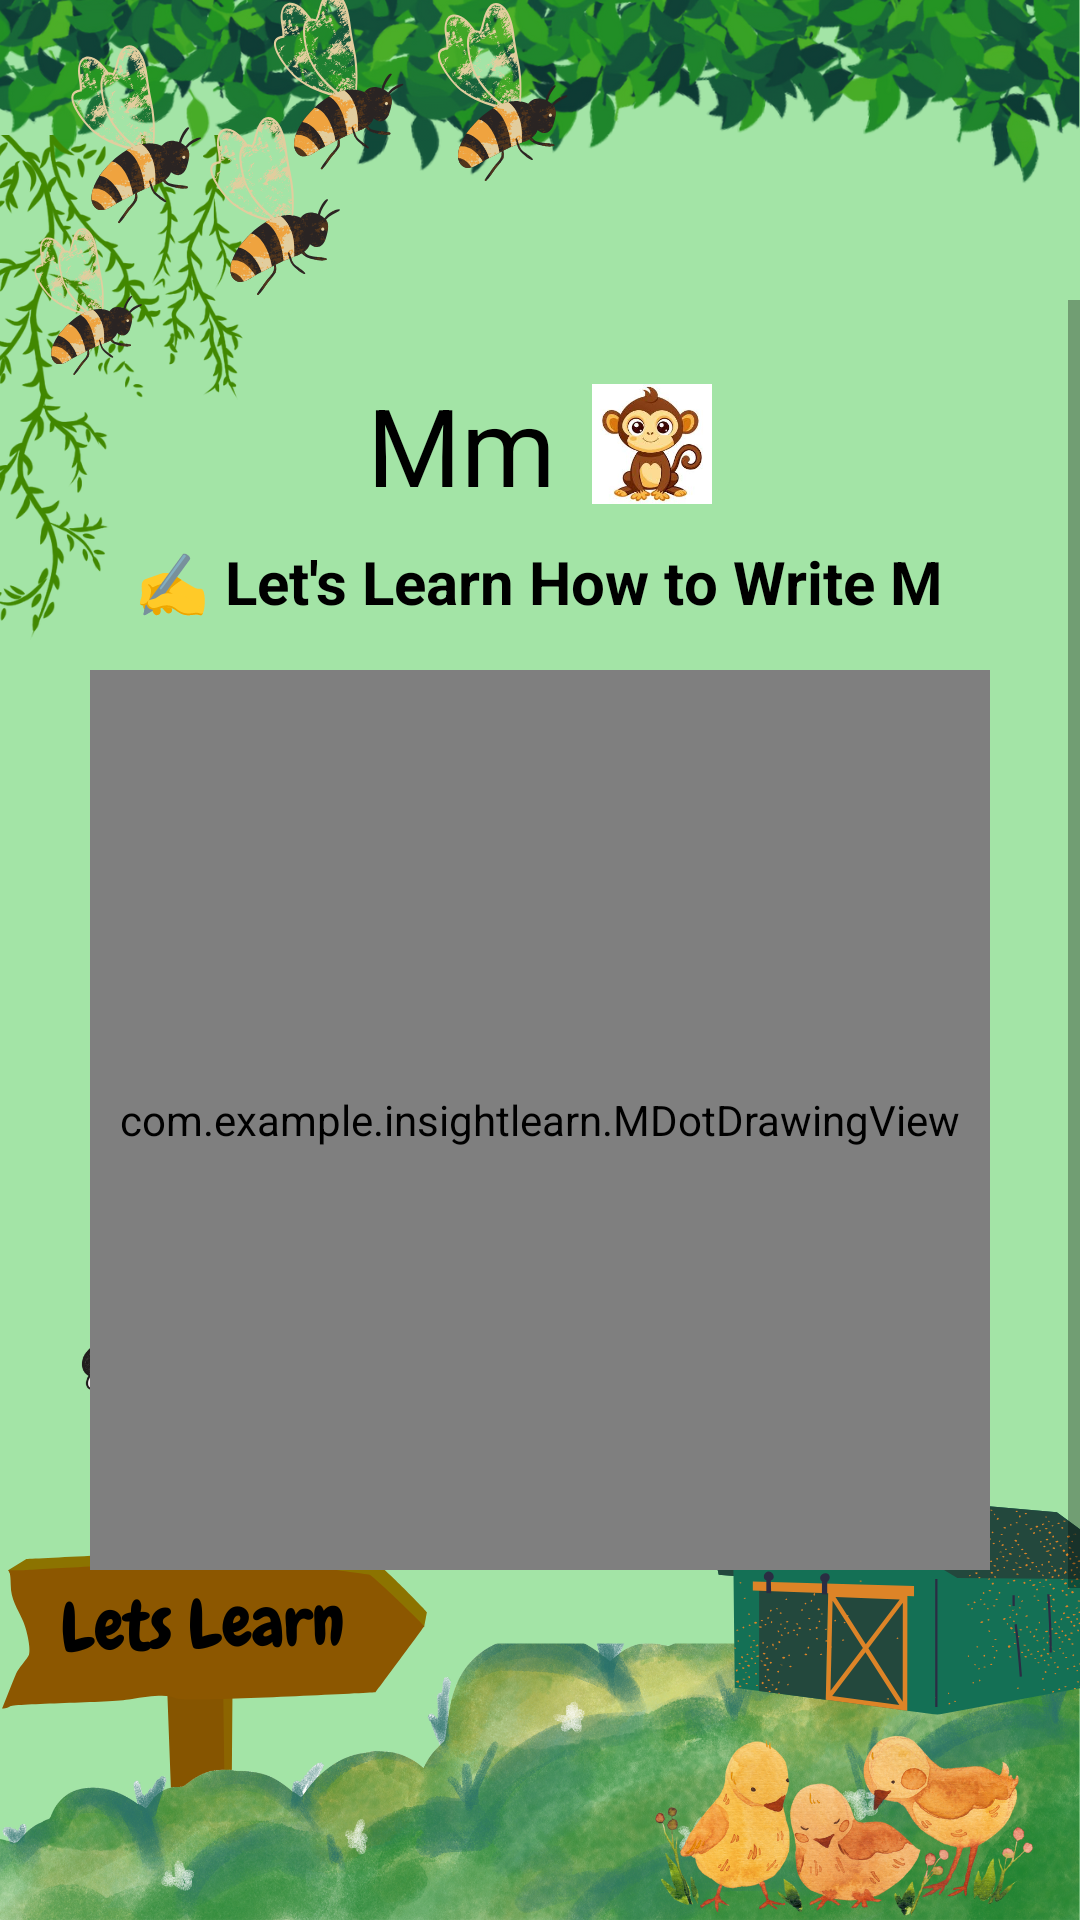

Named icons in this screenshot (1080x1920) and their centers, point (x, y):
Monkey: point (652, 444)
